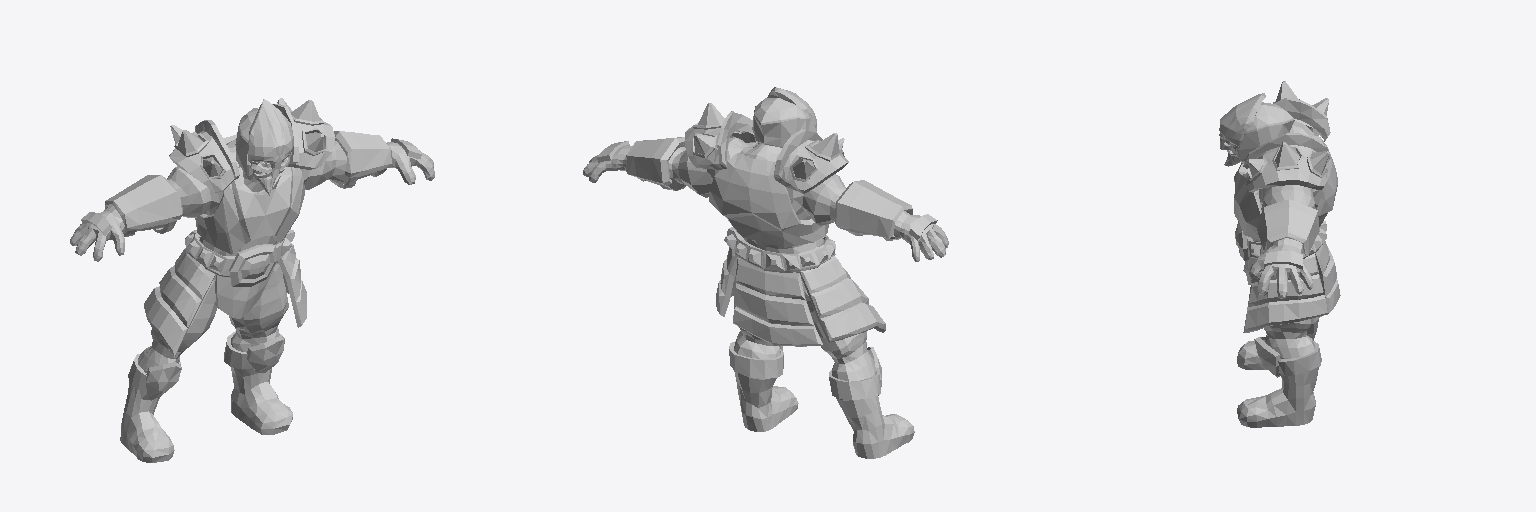
Rendered from LoganCGDance4.obj.
3 renders of one model, left to right at view 1: azimuth 30°, elevation 25°; view 2: azimuth 150°, elevation 25°; view 3: azimuth 270°, elevation 25°, orthographic.
Visible parts, largest first — view 1: armor_Plane.002; view 2: armor_Plane.002; view 3: armor_Plane.002.
Part boxes in pixels (bbox=[...]): armor_Plane.002: bbox=[70, 98, 434, 462]; armor_Plane.002: bbox=[583, 87, 948, 458]; armor_Plane.002: bbox=[1219, 81, 1340, 427].
Size of the model in its own units: 1.83 by 1.59 by 0.5371.